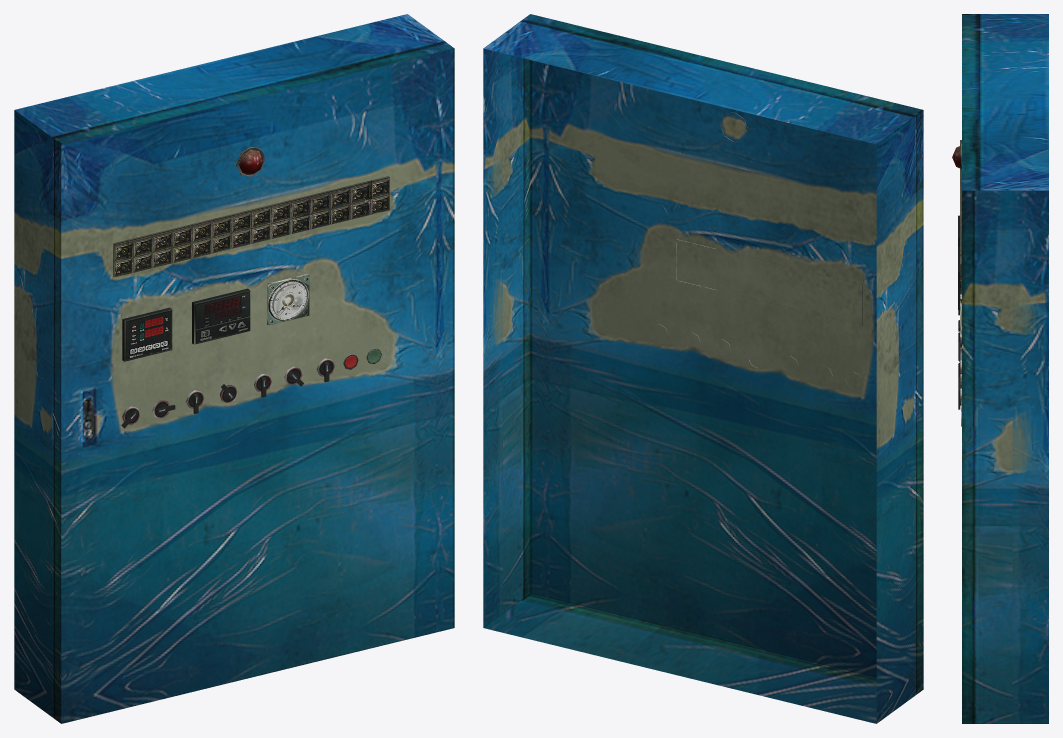
The model's file is fuse_box-3.FBX.
3 renders of one model, left to right at view 1: azimuth 30°, elevation 25°; view 2: azimuth 150°, elevation 25°; view 3: azimuth 270°, elevation 25°, orthographic. The views are drawn at different scales.
Visible parts, largest first — view 1: fuse_box-3_LOD0; view 2: fuse_box-3_LOD0; view 3: fuse_box-3_LOD0.
Boxes of the visible parts, x1,y1,x2,y2 form: fuse_box-3_LOD0: (14, 14, 454, 723); fuse_box-3_LOD0: (483, 14, 923, 723); fuse_box-3_LOD0: (952, 14, 1048, 723).
Size of what is drawn, in the model's own units: 24.68 by 34.75 by 5.72.
